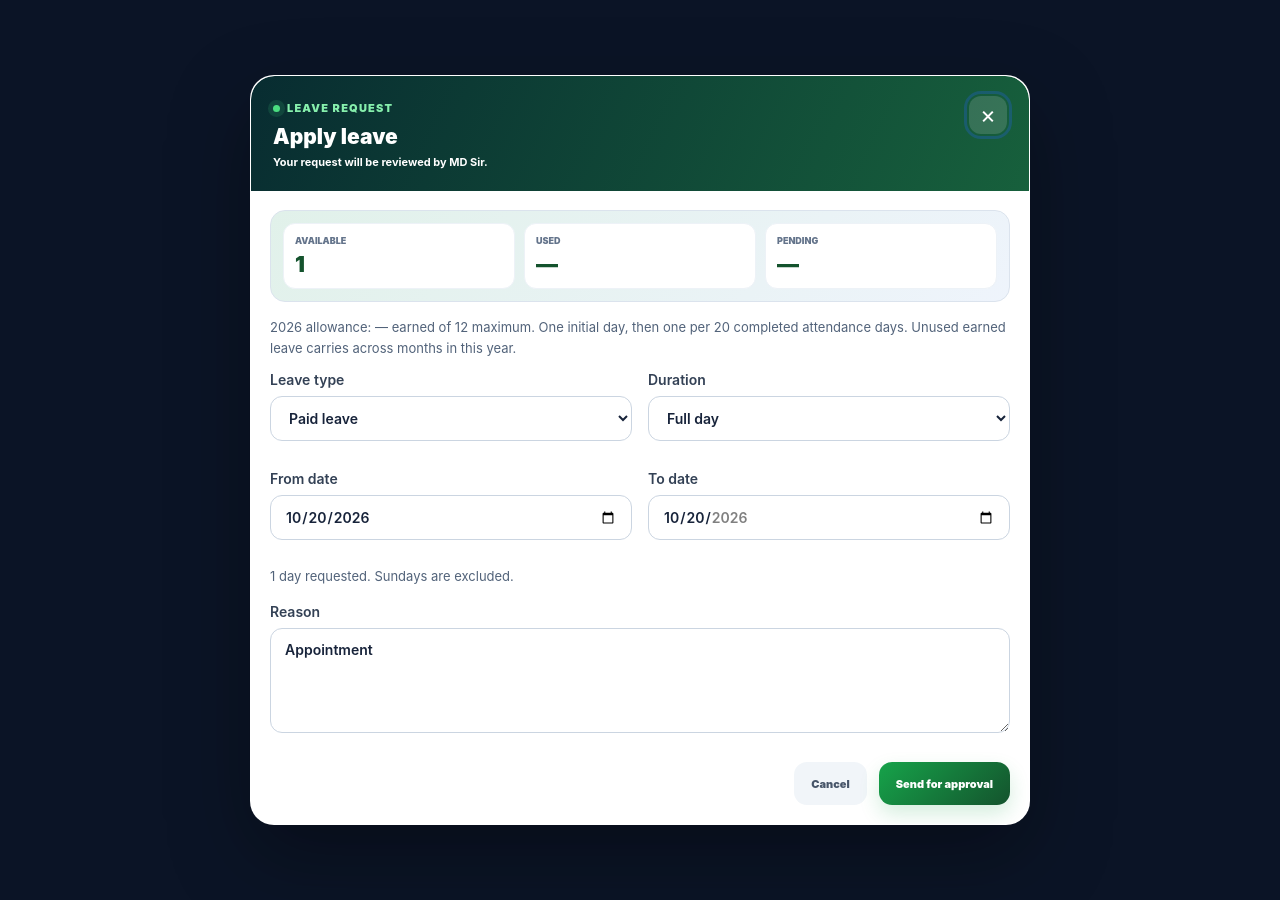
Test: Short leave remains available in the dropdown and cannot bypass nine-hour eligibility
Check: the button "Send for approval" is enabled, box [879,762,1010,805]
Select "Short leave" in the dropdown labelled "Leave type". click: (451, 419)
box: [270,396,632,441]
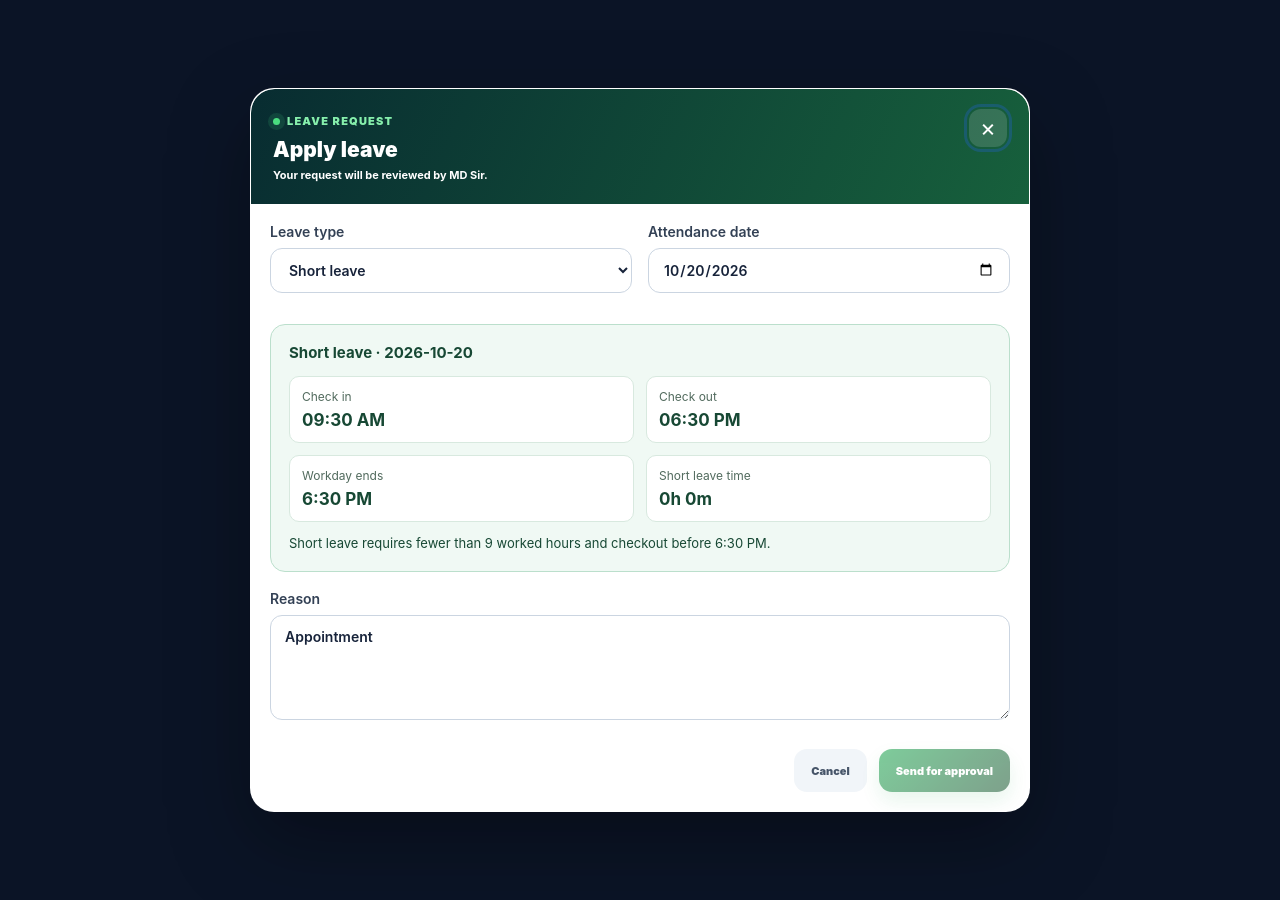
Check: the button "Send for approval" is disabled, box [879,749,1010,792]
